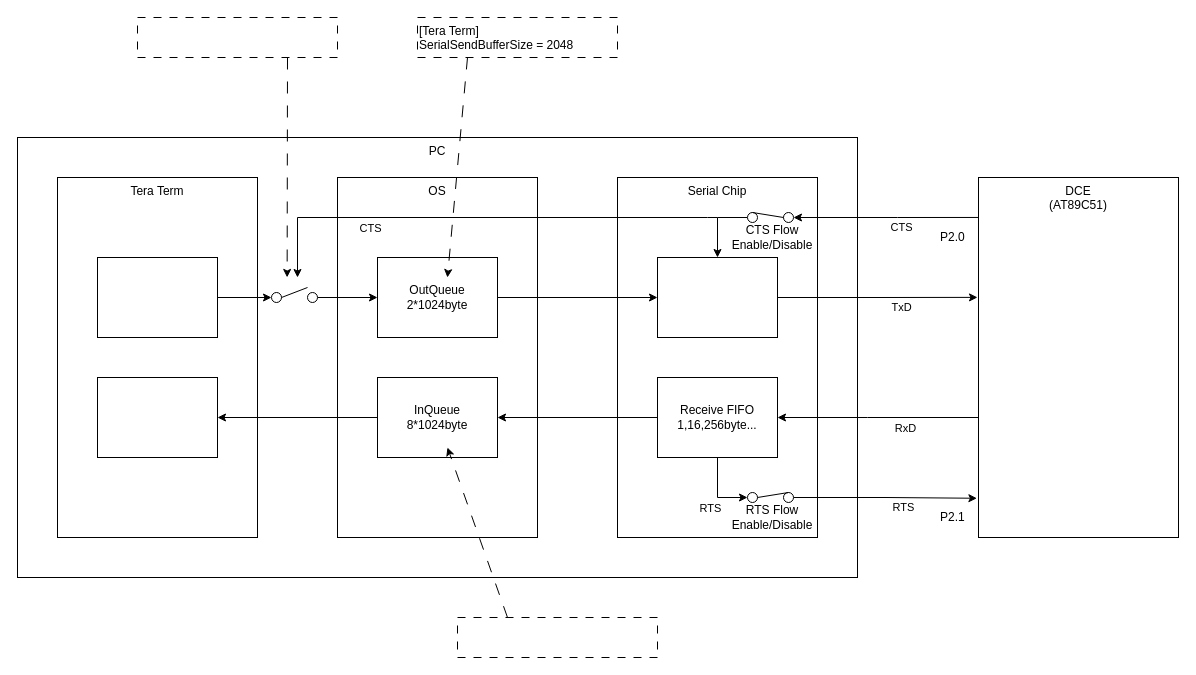
Some shapes in this 1196 by 675 pixel diagram are drawn without their labels. Each missing label, with the box of its shape:
[Tera Term] SerialAppCTSDSRFlow = 0: (136, 16, 338, 58)
[Tera Term] SerialRecieveBufferSize = 8192: (456, 616, 658, 658)
InBuff 1024byte: (96, 376, 218, 458)
OutBuff 16*1024byte: (96, 256, 218, 338)
Send FIFO 1,8,16,128byte...: (656, 256, 778, 338)
